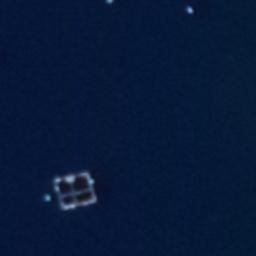square_solid: (48, 166, 101, 215)
